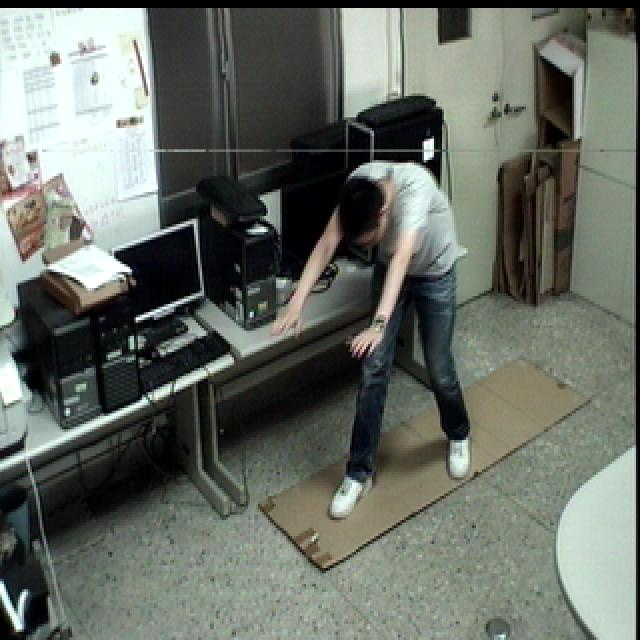bend: (266, 158, 479, 526)
